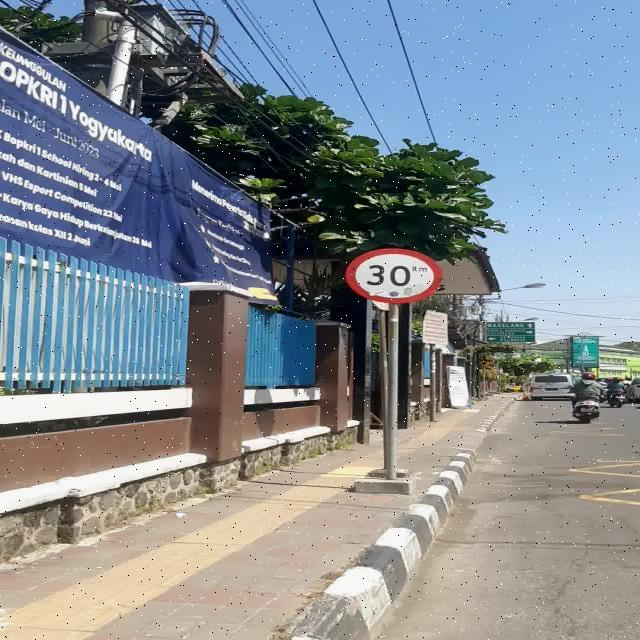Kecepatan Maks. 30 km: (345, 248, 443, 304)
